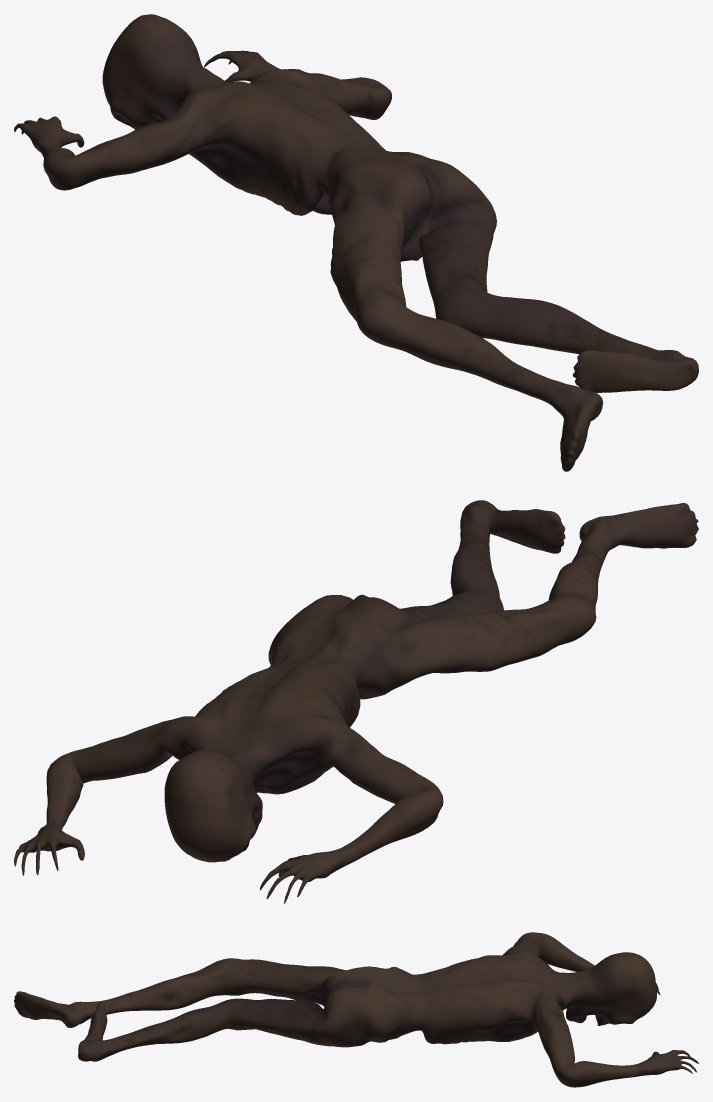
File: z3-dead2.glb
3 views of the same model, one above another, from view 1: azimuth 30°, elevation 25°; view 2: azimuth 150°, elevation 25°; view 3: azimuth 270°, elevation 25° (orthographic). The views are drawn at different scales.
Parts seen in each view (by area): view 1: Object_7; view 2: Object_7; view 3: Object_7.
Boxes of the visible parts, bbox=[...] form: Object_7: bbox=[14, 14, 698, 471]; Object_7: bbox=[14, 500, 698, 903]; Object_7: bbox=[14, 932, 698, 1087].
Bounding box in the file's own units: 0.8988 × 0.2663 × 2.17.
Materials: 1 (1 with a texture image).
